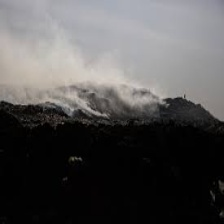smoke: (2, 49, 159, 117)
